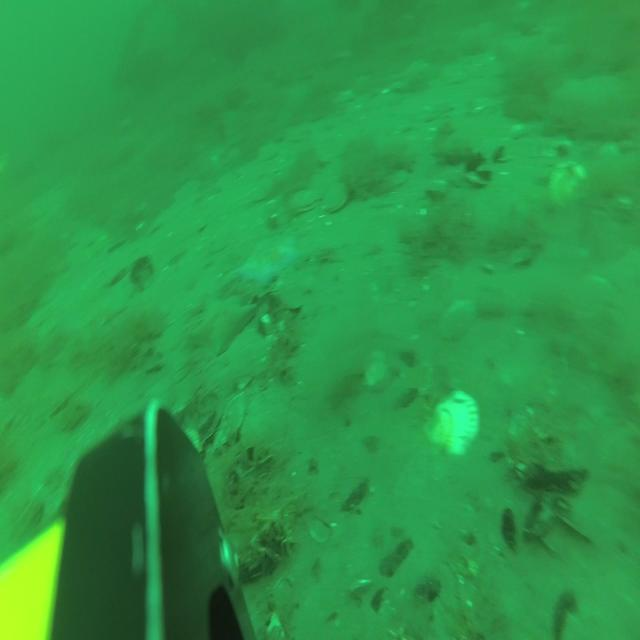scallop: (425, 390, 480, 455), (442, 290, 477, 339), (551, 158, 585, 203), (326, 176, 350, 212), (366, 358, 386, 392), (294, 186, 317, 214)
starfish: (190, 296, 256, 358), (224, 233, 302, 284)
